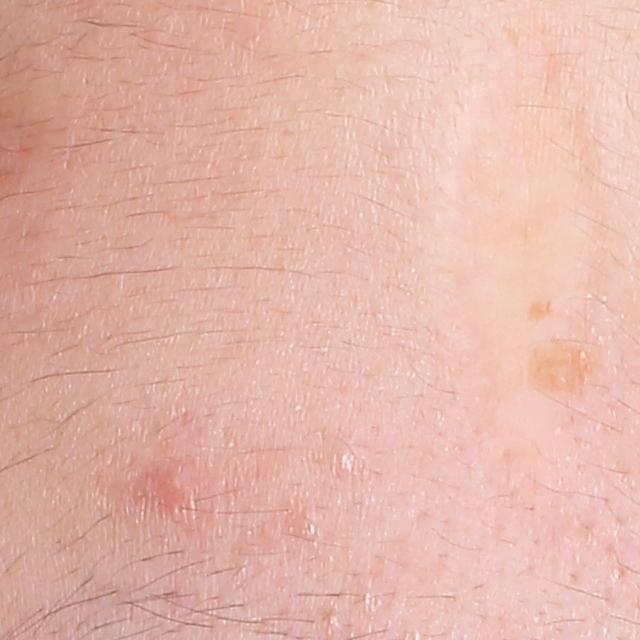comedo: (334, 453, 355, 475)
papule: (160, 467, 189, 506)
